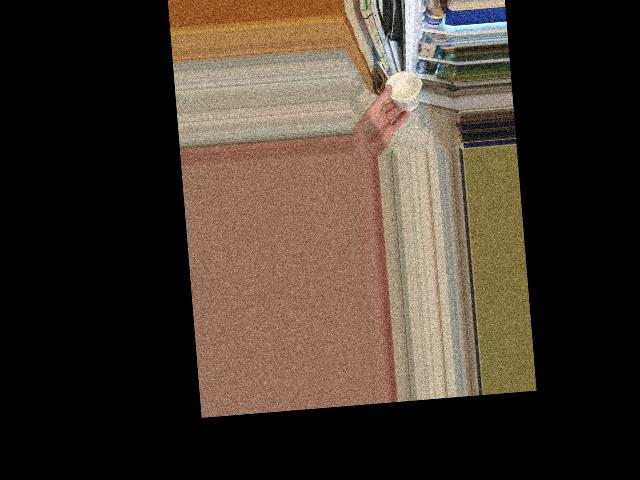cotage: (388, 71, 422, 112)
